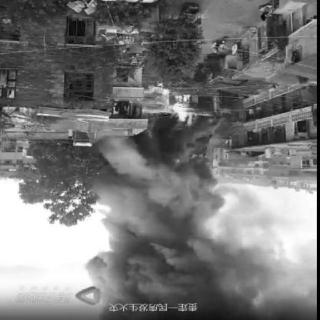Fire: (122, 74, 234, 168)
Smoke: (92, 136, 314, 319)
